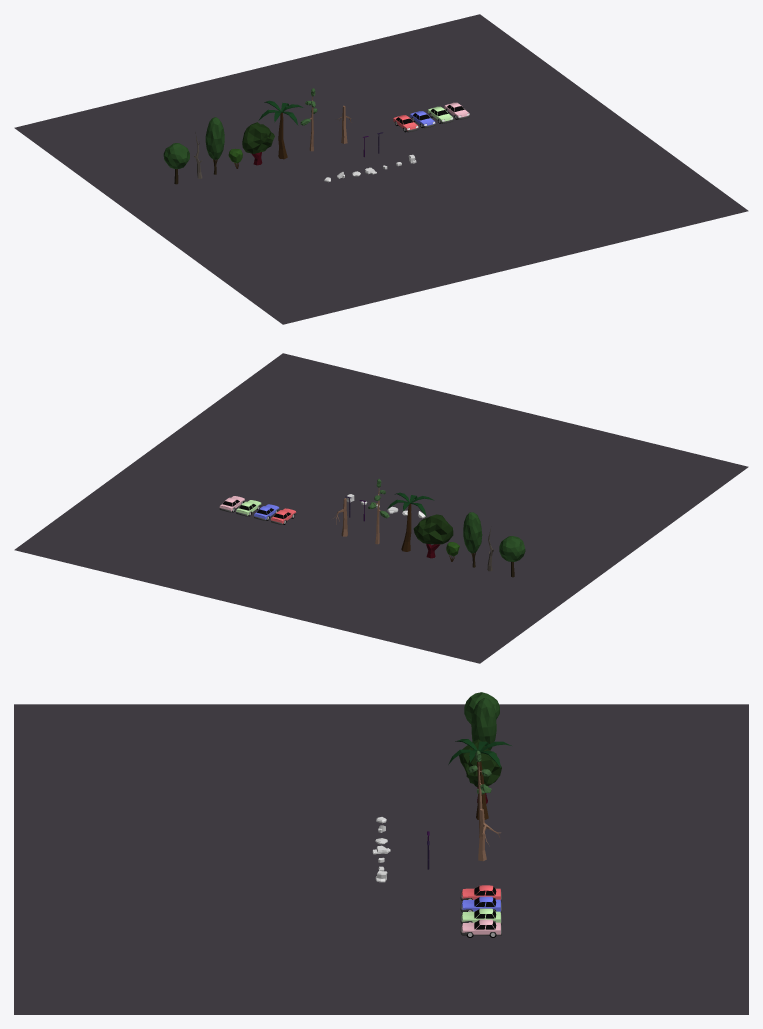
The model's file is environment.fbx.
3 views of the same model, one above another, from view 1: azimuth 30°, elevation 25°; view 2: azimuth 150°, elevation 25°; view 3: azimuth 270°, elevation 25° (orthographic). The views are drawn at different scales.
Visible parts, largest first — view 1: Plane, Cylinder001.003, Cylinder001.002, Cylinder001.004, Cylinder001.001; view 2: Plane, Cylinder001.003, Cylinder001.002, Cylinder001.004, Cylinder001.001; view 3: Plane, Cylinder001.002, Cylinder001.003, Cylinder001.004, Car.002.
Part boxes in pixels (x1,y1,x2,y2): Plane: [14, 14, 748, 324]; Cylinder001.003: [242, 122, 274, 165]; Cylinder001.002: [205, 117, 224, 174]; Cylinder001.004: [258, 100, 303, 159]; Cylinder001.001: [163, 143, 189, 184]; Plane: [14, 353, 748, 663]; Cylinder001.003: [413, 514, 453, 558]; Cylinder001.002: [463, 512, 482, 567]; Cylinder001.004: [387, 492, 434, 551]; Cylinder001.001: [499, 536, 525, 577]; Plane: [14, 704, 748, 1014]; Cylinder001.002: [471, 698, 496, 750]; Cylinder001.003: [459, 739, 501, 803]; Cylinder001.004: [448, 739, 511, 819]; Car.002: [460, 919, 501, 937].
Bounding box in the file's own units: 8202 × 1087 × 8202.
